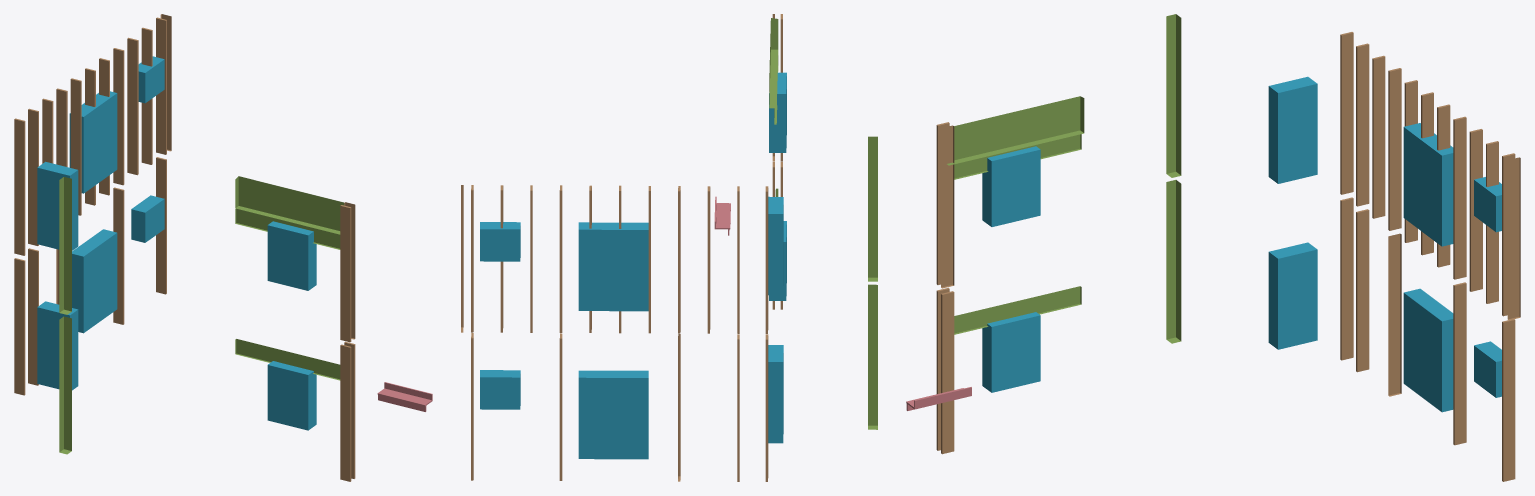
3 renders of one model, left to right at view 1: azimuth 30°, elevation 25°; view 2: azimuth 150°, elevation 25°; view 3: azimuth 270°, elevation 25°, orthographic. The views are drawn at different scales.
Bounding box in the file's own units: 6.54 × 6.52 × 11.14.
